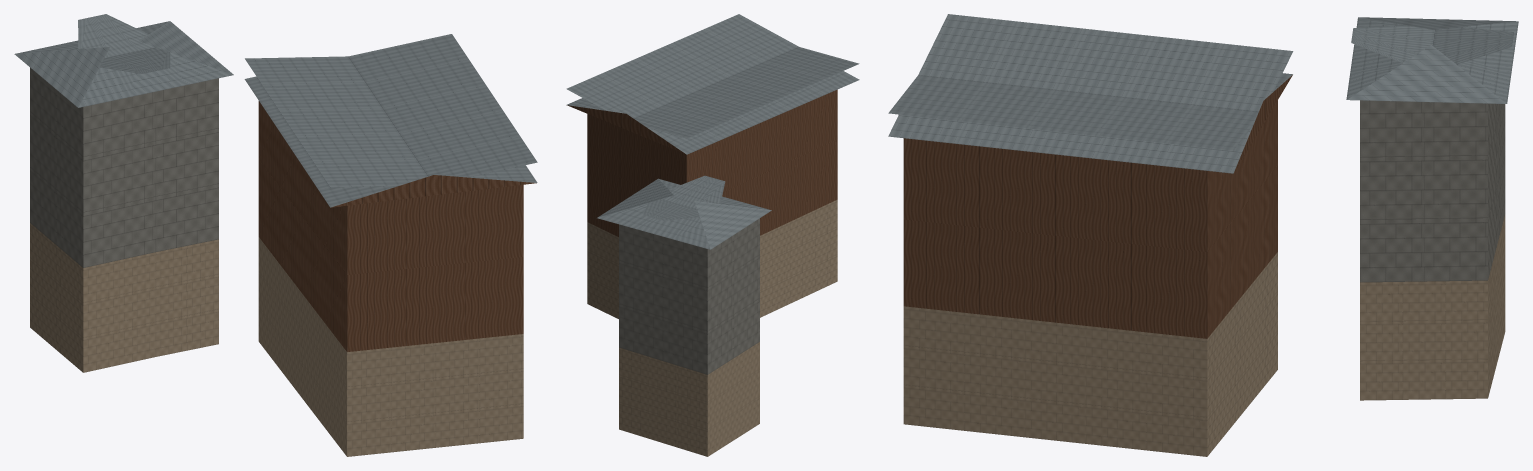
The model's file is bld_c44_-39_417.gltf.
3 views of the same model, side by side, from view 1: azimuth 30°, elevation 25°; view 2: azimuth 150°, elevation 25°; view 3: azimuth 270°, elevation 25° (orthographic). The views are drawn at different scales.
Parts seen in each view (by area): view 1: bld_c44_-39_417; view 2: bld_c44_-39_417; view 3: bld_c44_-39_417.
Boxes of the visible parts, x1,y1,x2,y2 form: bld_c44_-39_417: (14, 14, 537, 456); bld_c44_-39_417: (566, 14, 859, 456); bld_c44_-39_417: (888, 14, 1518, 456).
Bounding box in the file's own units: 16.22 × 15 × 24.69.
Materials: 5 (5 with a texture image).
